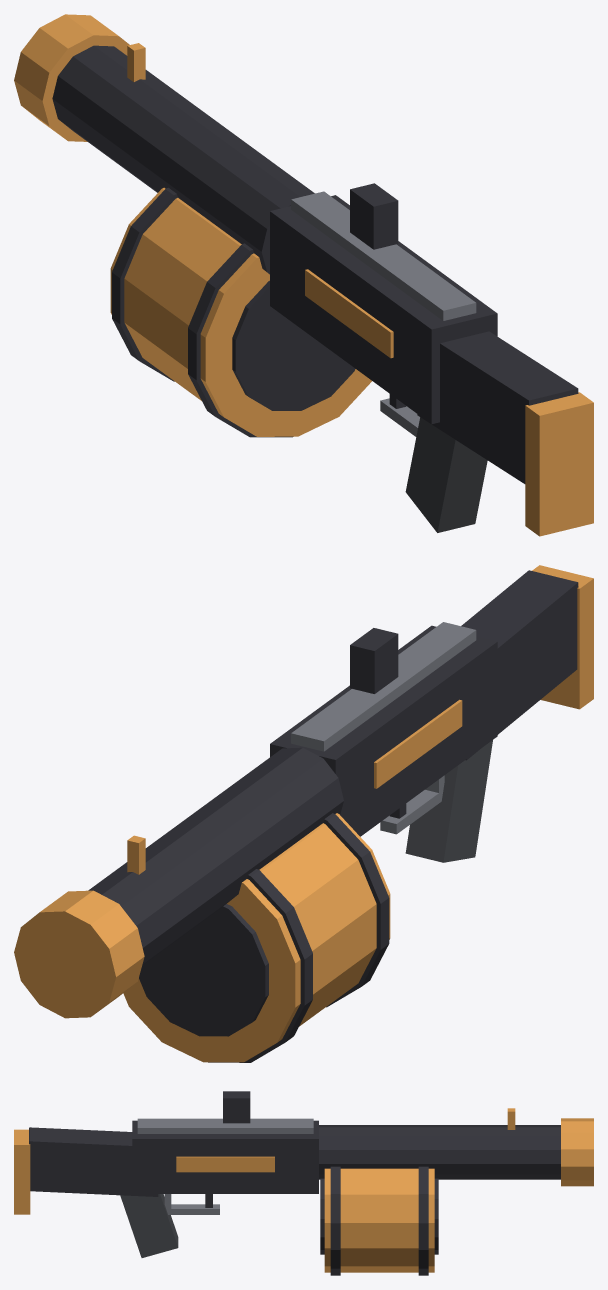
File: grenade_launcher.glb
3 views of the same model, one above another, from view 1: azimuth 30°, elevation 25°; view 2: azimuth 150°, elevation 25°; view 3: azimuth 270°, elevation 25° (orthographic). The views are drawn at different scales.
Parts seen in each view (by area): view 1: GrenadeLauncher; view 2: GrenadeLauncher; view 3: GrenadeLauncher.
Boxes of the visible parts, box(x1,y1,x2,y2) form: GrenadeLauncher: box(14, 14, 593, 536); GrenadeLauncher: box(14, 565, 593, 1062); GrenadeLauncher: box(14, 1091, 593, 1275).
Bounding box in the file's own units: 0.234 × 0.35 × 1.05.
